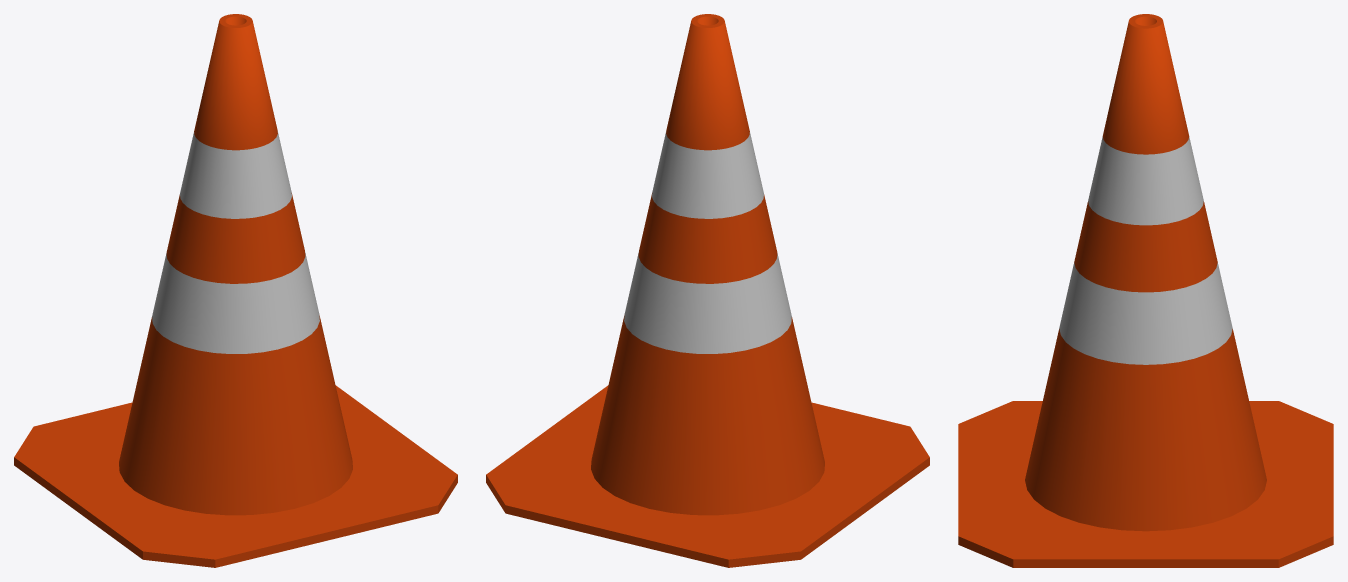
The model's file is roadcone.obj.
3 views of the same model, side by side, from view 1: azimuth 30°, elevation 25°; view 2: azimuth 150°, elevation 25°; view 3: azimuth 270°, elevation 25° (orthographic). The views are drawn at different scales.
Parts seen in each view (by area): view 1: Roadcone_Cylinder.010; view 2: Roadcone_Cylinder.010; view 3: Roadcone_Cylinder.010.
Boxes of the visible parts, left/top/right/bottom form: Roadcone_Cylinder.010: left=14, top=14, right=457, bottom=567; Roadcone_Cylinder.010: left=486, top=14, right=929, bottom=567; Roadcone_Cylinder.010: left=958, top=14, right=1333, bottom=567.
Bounding box in the file's own units: 0.3061 × 0.421 × 0.3061.
